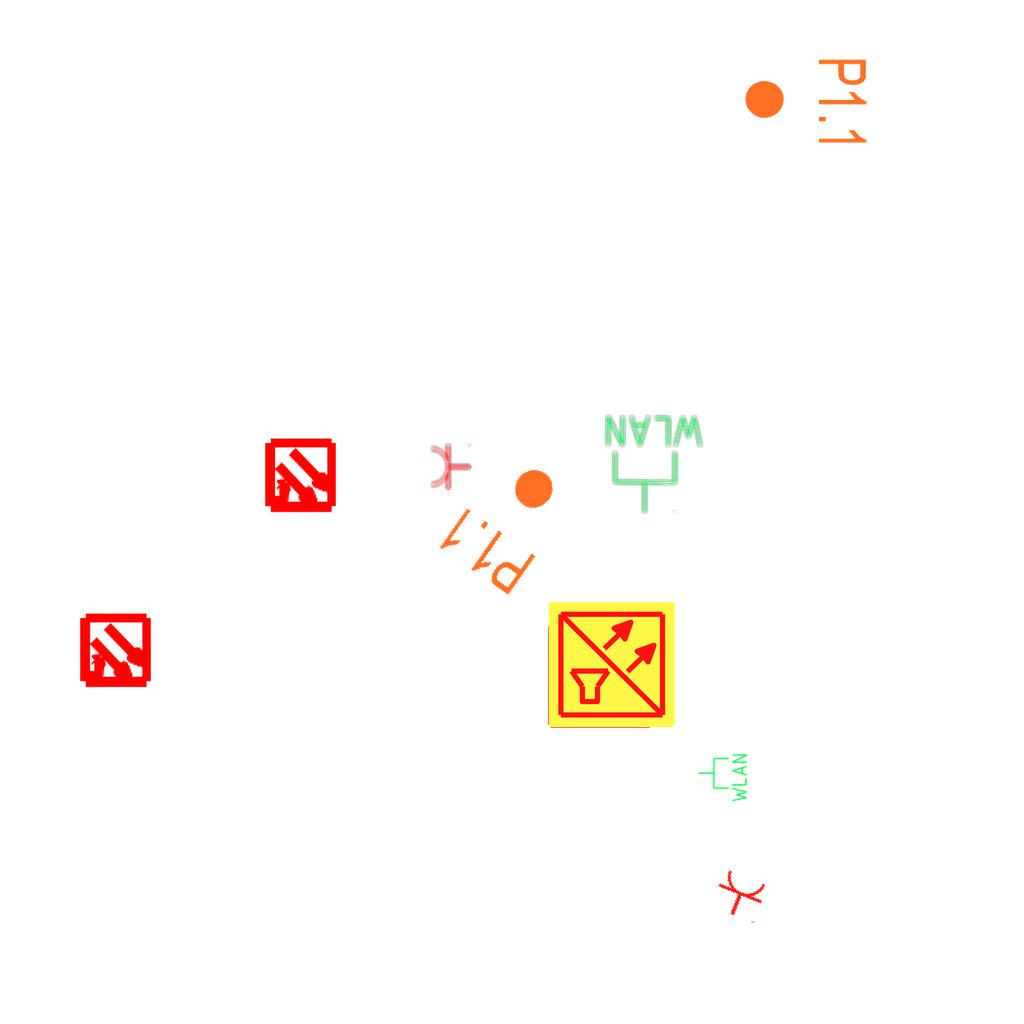Downlight_LED_Einbauleuchten_Flur: (432, 441, 583, 601), (742, 56, 870, 149)
OKW_Multisensormelder_(Kombination_optischer_Rauch-Kahlenmonoxid_Waerme-Melder): (546, 599, 678, 731)
OT_Multisensormelder_(Kombination_RMO_WMD): (244, 421, 357, 534), (59, 596, 172, 709)
Schukosteckdose_einfach: (709, 866, 772, 926), (429, 441, 472, 491)
WLAN: (602, 412, 707, 516), (697, 752, 749, 804)
